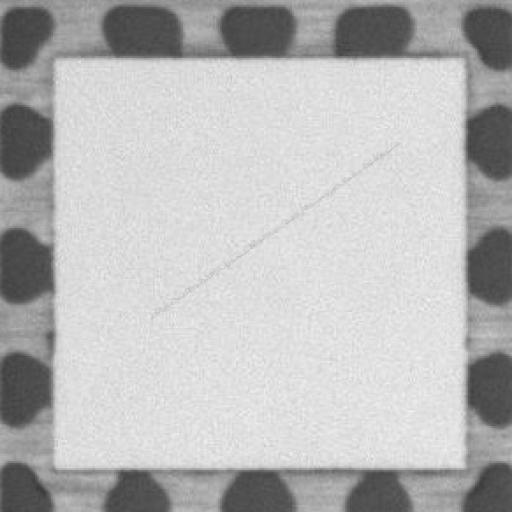DIE_CRACK: (149, 142, 395, 316)
